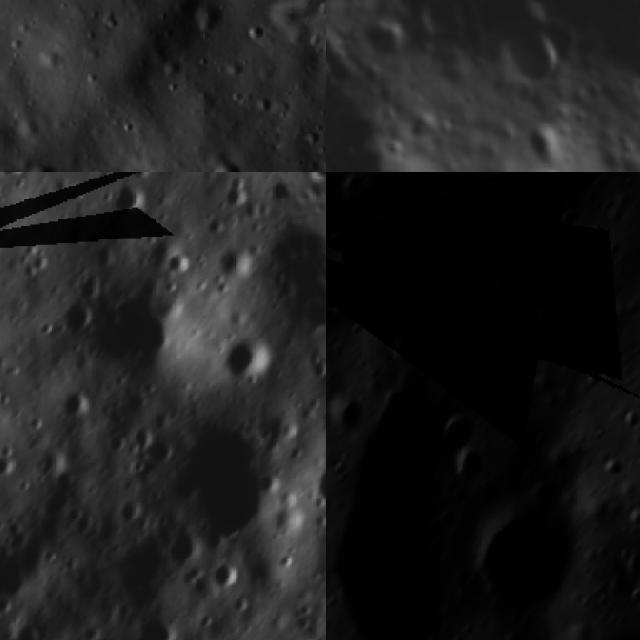crater: (326, 0, 640, 152), (166, 408, 287, 554), (68, 262, 196, 387), (464, 498, 578, 617), (493, 17, 570, 96), (348, 5, 418, 76), (484, 264, 554, 334), (216, 324, 279, 394), (134, 410, 182, 470), (48, 287, 97, 344), (99, 172, 148, 220), (212, 235, 261, 283), (52, 382, 101, 429), (503, 224, 552, 269), (432, 409, 482, 453), (200, 552, 248, 596), (449, 442, 489, 493), (128, 606, 186, 640), (326, 392, 365, 438), (298, 456, 326, 518), (442, 292, 481, 336), (326, 285, 364, 329), (386, 329, 426, 369), (15, 142, 66, 172), (199, 140, 246, 172), (5, 611, 49, 640), (446, 342, 482, 374), (514, 325, 546, 360), (0, 373, 19, 426), (182, 172, 227, 190), (621, 549, 640, 586), (296, 621, 326, 640), (624, 582, 640, 615)
